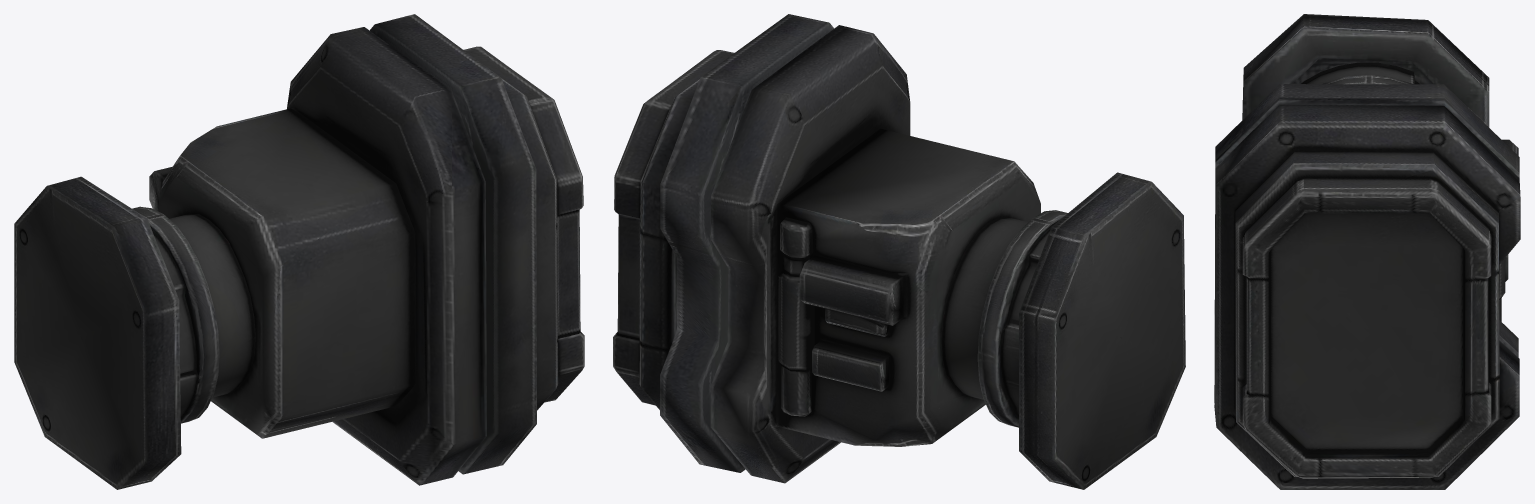
The model's file is cold-iron-v2-panel-d-armored-pod.glb.
The picture shows the model from 3 angles, left to right: view 1: azimuth 30°, elevation 25°; view 2: azimuth 150°, elevation 25°; view 3: azimuth 270°, elevation 25°; orthographic projection. The views are drawn at different scales.
Parts seen in each view (by area): view 1: tripo_node_574ac9dc-74ca-43b4-8bc4-c84727f7732e; view 2: tripo_node_574ac9dc-74ca-43b4-8bc4-c84727f7732e; view 3: tripo_node_574ac9dc-74ca-43b4-8bc4-c84727f7732e.
Boxes of the visible parts, x1,y1,x2,y2 form: tripo_node_574ac9dc-74ca-43b4-8bc4-c84727f7732e: (14, 14, 584, 489); tripo_node_574ac9dc-74ca-43b4-8bc4-c84727f7732e: (613, 14, 1185, 489); tripo_node_574ac9dc-74ca-43b4-8bc4-c84727f7732e: (1214, 14, 1520, 489).
Bounding box in the file's own units: 0.998 × 0.8379 × 0.6348.
1 material, 1 textured.
